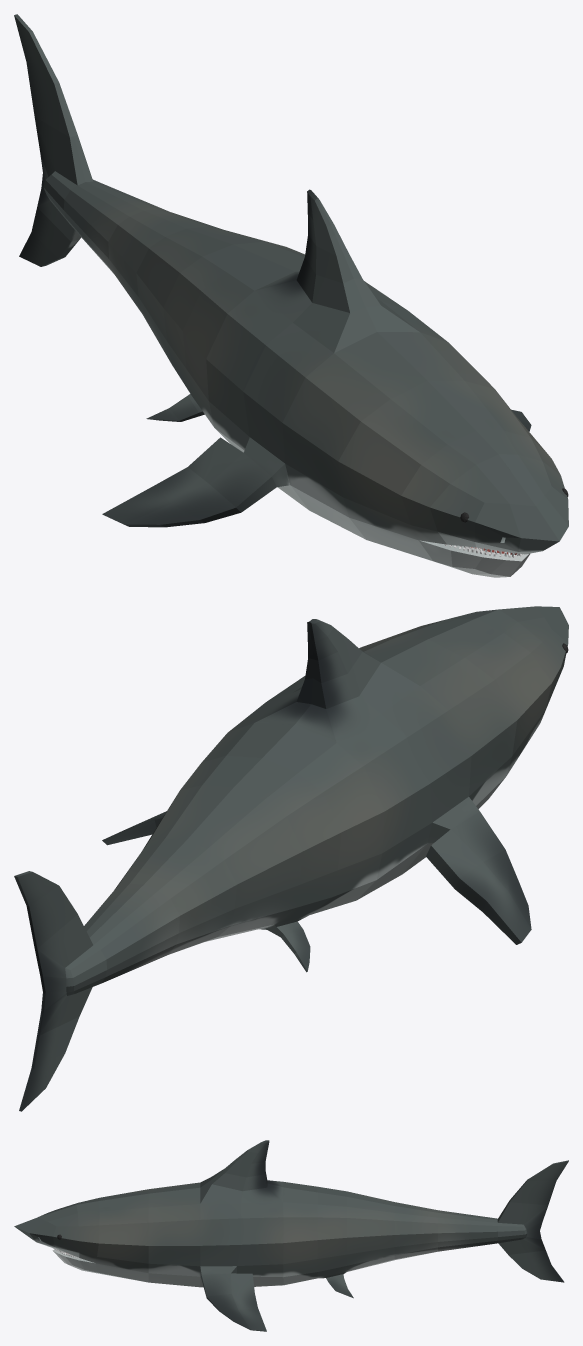
Rendered from shark.fbx.
3 renders of one model, top to bottom at view 1: azimuth 30°, elevation 25°; view 2: azimuth 150°, elevation 25°; view 3: azimuth 270°, elevation 25°, orthographic. The views are drawn at different scales.
Parts seen in each view (by area): view 1: shark; view 2: shark; view 3: shark.
Boxes of the visible parts, x1=… form: shark: x1=14, y1=14, x2=568, y2=577; shark: x1=14, y1=606, x2=568, y2=1111; shark: x1=14, y1=1140, x2=568, y2=1331.
Bounding box in the file's own units: 355 × 225 × 796.
